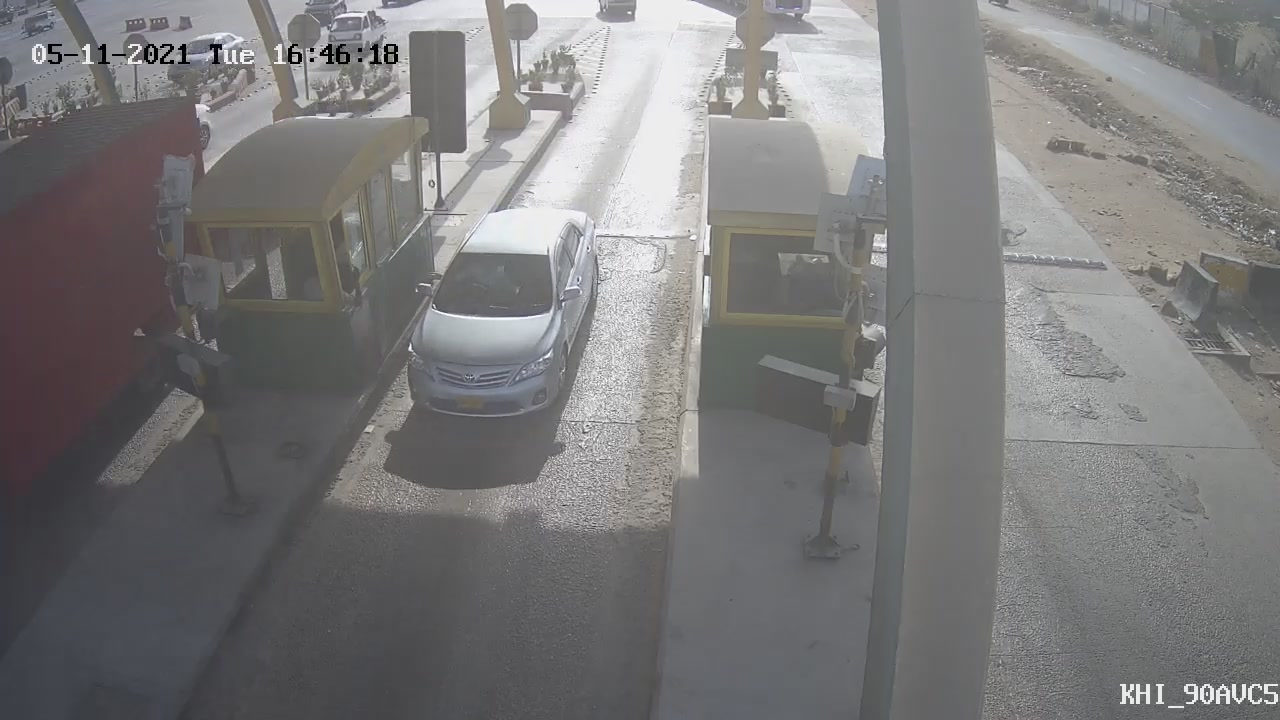F1: (377, 190, 622, 435)
